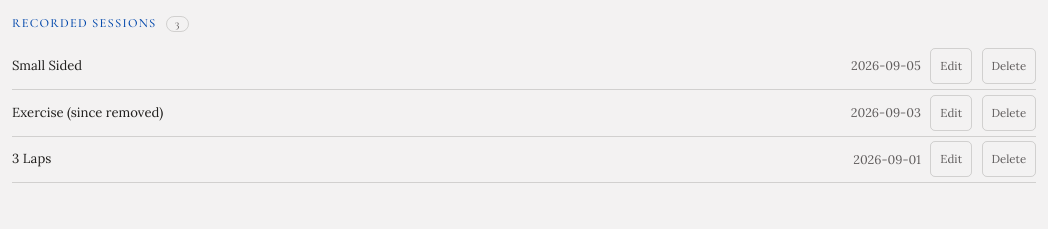
Scenario: deleting › reports a refusal instead of leaving the row looking deleted
The image size is (1048, 229).
Click the button "Delete" in the row of "2026-09-05". click: (1009, 66)
box: [982,48,1036,84]
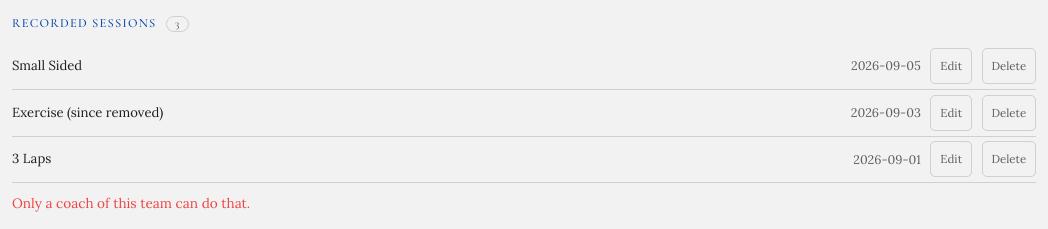
Check: the message "Only a coach of this team can do that." is shown, box [12,194,250,212]
